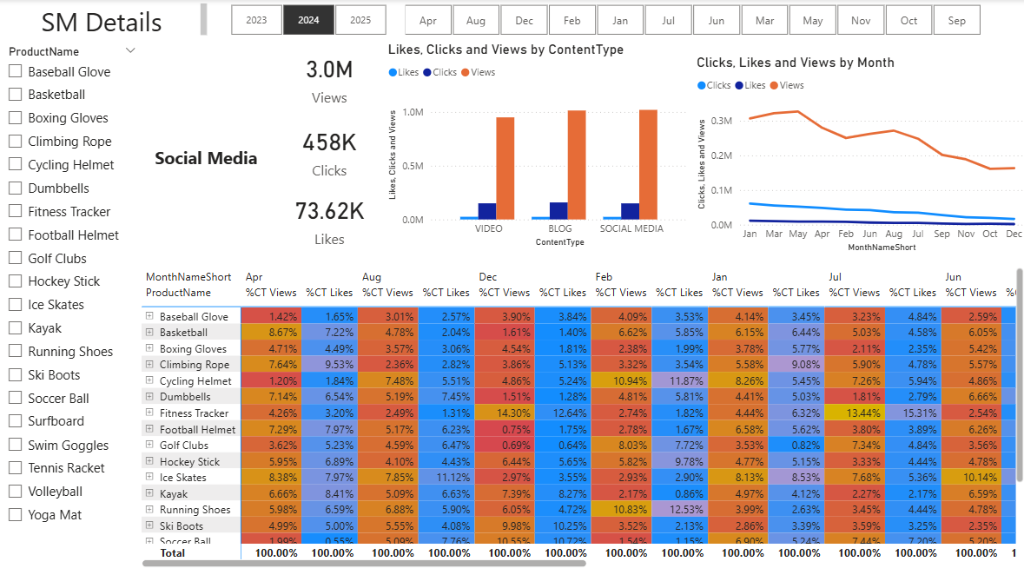

What the dashboard file says about the page in this screenshot:
{"tool":"powerbi","page":{"name":"Social Media Details","canvas":[1280,720],"ordinal":2},"visuals":[{"type":"slicer","fields":{"Values":["Calendar.MonthNameShort"]},"box":[480,0,765.4,51],"z":0},{"type":"textbox","box":[0,0,264.6,51],"z":1000},{"type":"slicer","fields":{"Values":["products.ProductName"]},"box":[0,51,183.3,669],"z":2000},{"type":"textbox","box":[173.3,68,170,260.7],"z":3000},{"type":"card","fields":{"Values":["_Calculations.Views"]},"box":[343.3,51.8,136,89.1],"z":4000},{"type":"card","fields":{"Values":["_Calculations.Clicks"]},"box":[343.3,140.9,136,92.3],"z":5000},{"type":"card","fields":{"Values":["_Calculations.Likes"]},"box":[343.3,233.2,136,79.3],"z":6000},{"type":"slicer","fields":{"Values":["Calendar.Year"]},"box":[264.6,0,241.9,51],"z":7000},{"type":"lineChart","title":"Clicks, Likes and Views by Month","fields":{"Category":["Calendar.MonthNameShort"],"Y":["_Calculations.Clicks","_Calculations.Likes","_Calculations.Views"]},"box":[863,68,416.1,251],"z":8000},{"type":"clusteredColumnChart","fields":{"Category":["engagement_data.ContentType"],"Y":["_Calculations.Likes","_Calculations.Clicks","_Calculations.Views"]},"box":[479.3,51.8,383.8,260.7],"z":9000},{"type":"pivotTable","fields":{"Rows":["products.ProductName","engagement_data.ContentType"],"Columns":["Calendar.MonthNameShort"],"Values":["_Calculations.Views","_Calculations.Likes"]},"box":[173.3,328.7,1105.9,382.1],"z":10000}]}

Visuals, with their boxes in screenshot pixels (x1, y1, x2, y2), scaled from the page's 1280x720 canvas onto the 1024x570 screenshot:
slicer - Calendar.MonthNameShort: x1=384, y1=0, x2=996, y2=40
textbox: x1=0, y1=0, x2=212, y2=40
slicer - products.ProductName: x1=0, y1=40, x2=147, y2=569
textbox: x1=139, y1=54, x2=275, y2=260
card - _Calculations.Views: x1=275, y1=41, x2=383, y2=112
card - _Calculations.Clicks: x1=275, y1=112, x2=383, y2=185
card - _Calculations.Likes: x1=275, y1=185, x2=383, y2=247
slicer - Calendar.Year: x1=212, y1=0, x2=405, y2=40
"Clicks, Likes and Views by Month" lineChart: x1=690, y1=54, x2=1023, y2=253
clusteredColumnChart - engagement_data.ContentType x _Calculations.Likes: x1=383, y1=41, x2=690, y2=247
pivotTable - products.ProductName x engagement_data.ContentType: x1=139, y1=260, x2=1023, y2=563
